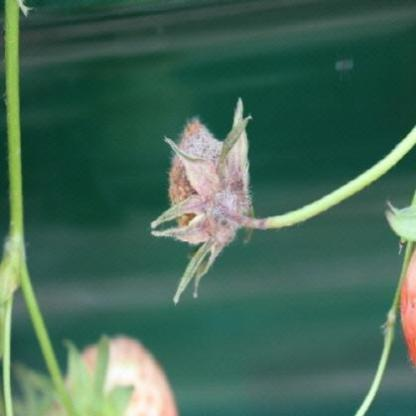Strawberry_Gray_Mold: (150, 97, 270, 304)
